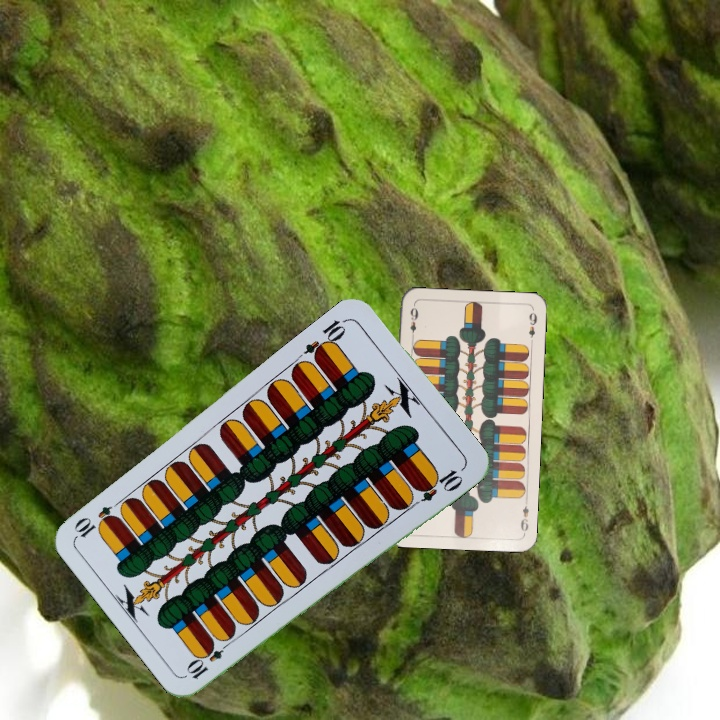E10: (300, 314, 350, 364), (183, 635, 234, 682)
E9: (406, 302, 421, 342), (516, 496, 531, 536)
